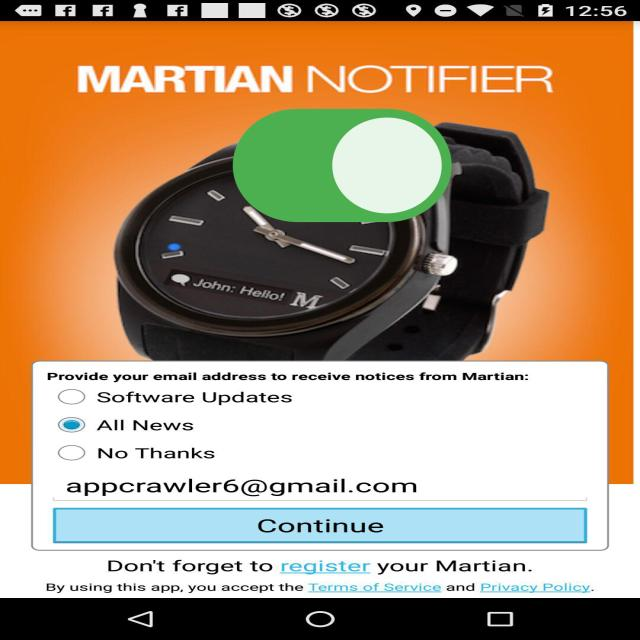social proof: (223, 66, 462, 274)
